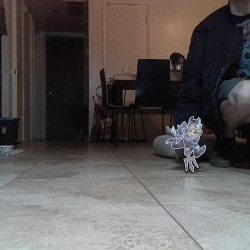sparky: (165, 115, 207, 174)
